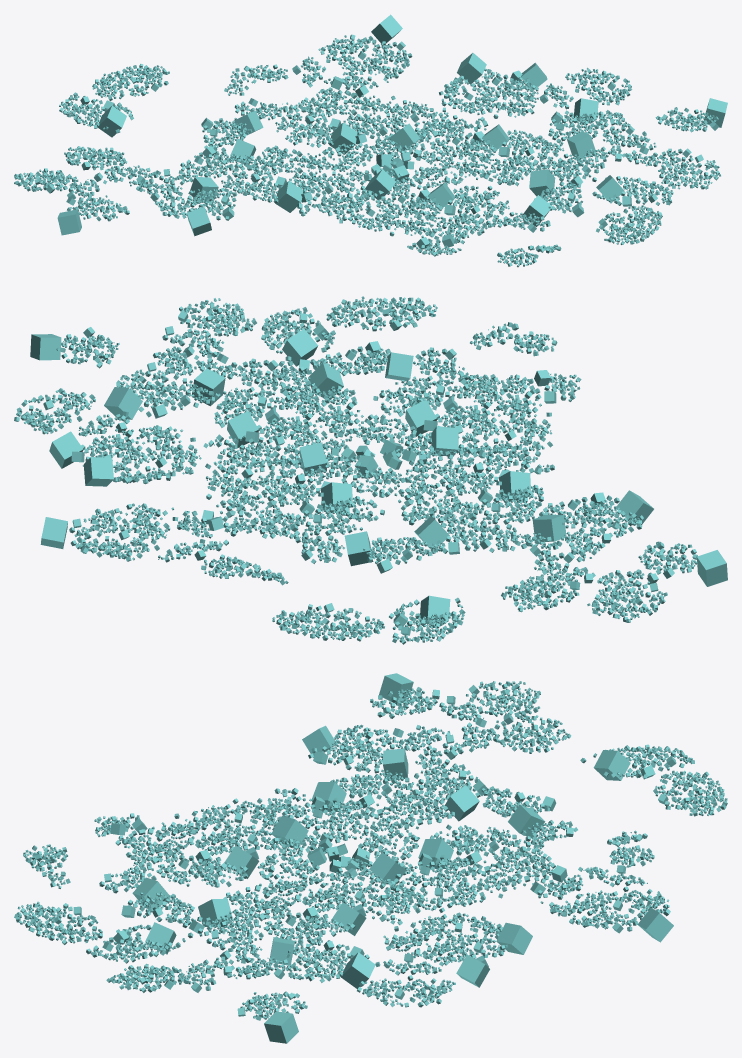
File: Glass.Shards1.fbx
3 views of the same model, one above another, from view 1: azimuth 30°, elevation 25°; view 2: azimuth 150°, elevation 25°; view 3: azimuth 270°, elevation 25° (orthographic). The views are drawn at different scales.
Parts seen in each view (by area): view 1: Cube; view 2: Cube; view 3: Cube.
Boxes of the visible parts, box(x1,y1,x2,y2) form: Cube: box(14, 14, 727, 267); Cube: box(14, 296, 727, 644); Cube: box(14, 673, 727, 1043).
Size of the model in its own units: 827 by 42.15 by 708.
